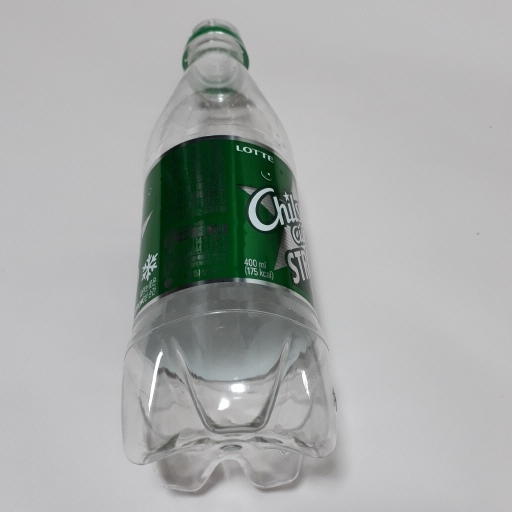Plastic_0: (124, 17, 339, 497)
